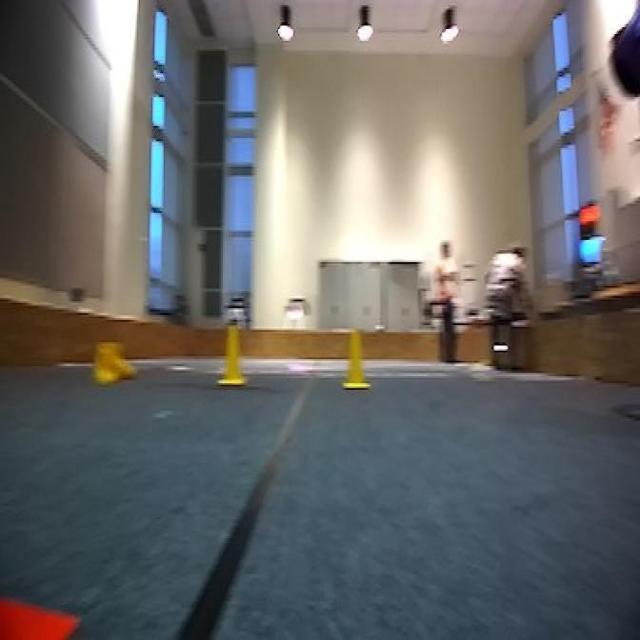frc_cone: (94, 337, 137, 386), (218, 322, 248, 388), (342, 330, 370, 393)
frc_cube: (613, 0, 639, 95)
